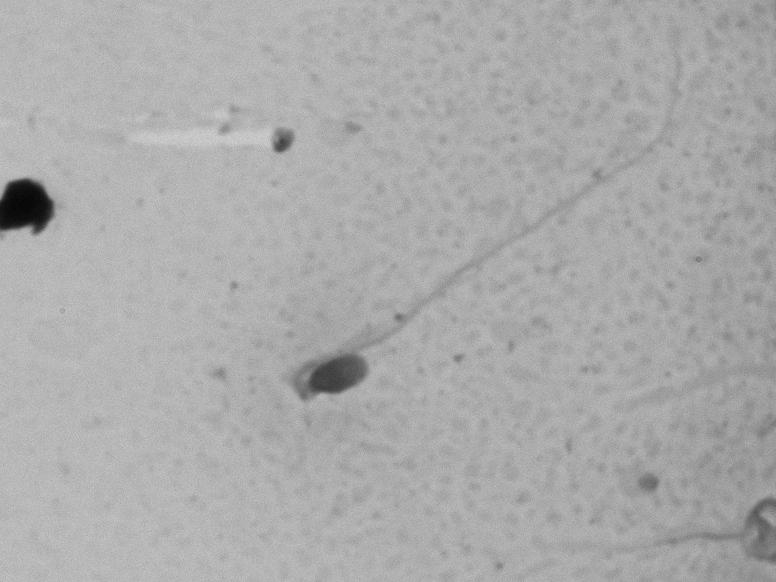Abnormal: (276, 89, 665, 433)
